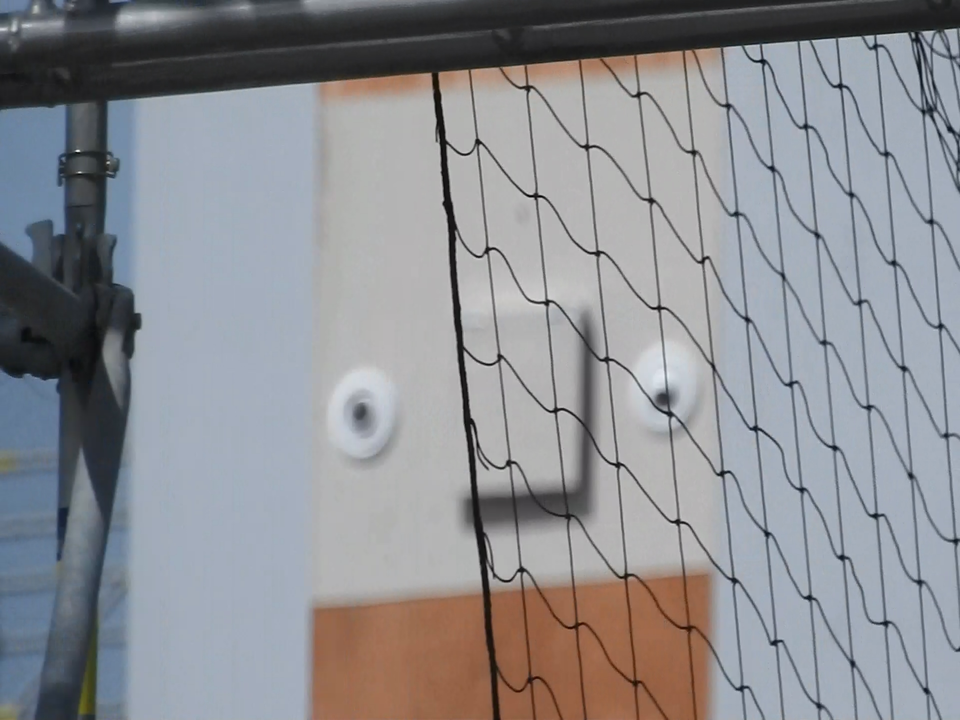facade: (328, 300, 697, 496)
